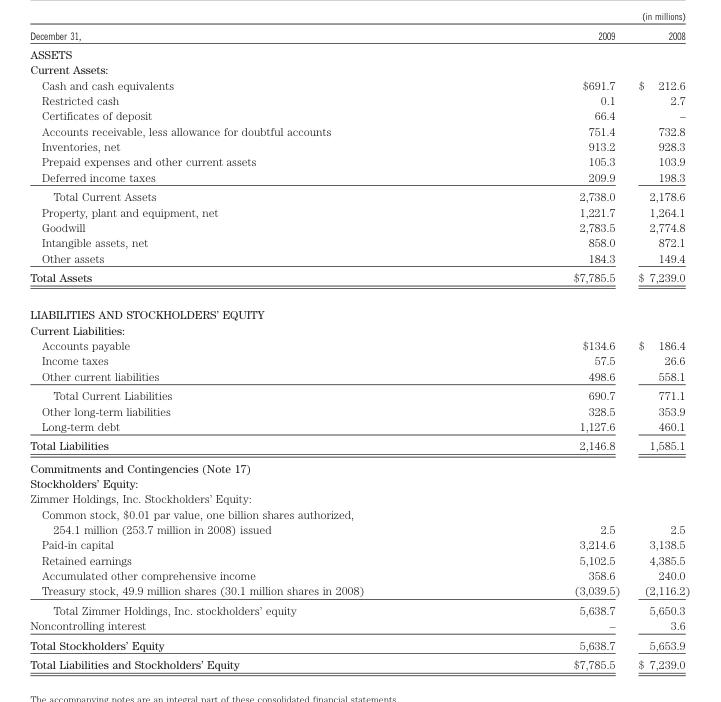table: (29, 28, 689, 670)
table column: (29, 28, 468, 670), (468, 28, 628, 670), (628, 28, 689, 670)
table column header: (29, 28, 689, 44)
table projected row header: (29, 295, 689, 322), (29, 456, 689, 475), (29, 44, 689, 61), (29, 61, 689, 76), (29, 322, 689, 337), (29, 475, 689, 490), (29, 490, 689, 505)
table row: (29, 505, 689, 536), (29, 267, 689, 295), (29, 295, 689, 322), (29, 435, 689, 456), (29, 634, 689, 654), (29, 456, 689, 475), (29, 168, 689, 186), (29, 249, 689, 267), (29, 599, 689, 617), (29, 44, 689, 61), (29, 186, 689, 203), (29, 368, 689, 385), (29, 385, 689, 402), (29, 418, 689, 435), (29, 582, 689, 599), (29, 617, 689, 634), (29, 28, 689, 44), (29, 76, 689, 92), (29, 122, 689, 138), (29, 203, 689, 219), (29, 352, 689, 368), (29, 402, 689, 418), (29, 551, 689, 567), (29, 654, 689, 670), (29, 61, 689, 76), (29, 92, 689, 107), (29, 107, 689, 122), (29, 138, 689, 153), (29, 153, 689, 168), (29, 219, 689, 234), (29, 234, 689, 249), (29, 322, 689, 337), (29, 337, 689, 352), (29, 475, 689, 490), (29, 490, 689, 505), (29, 536, 689, 551), (29, 567, 689, 582)
